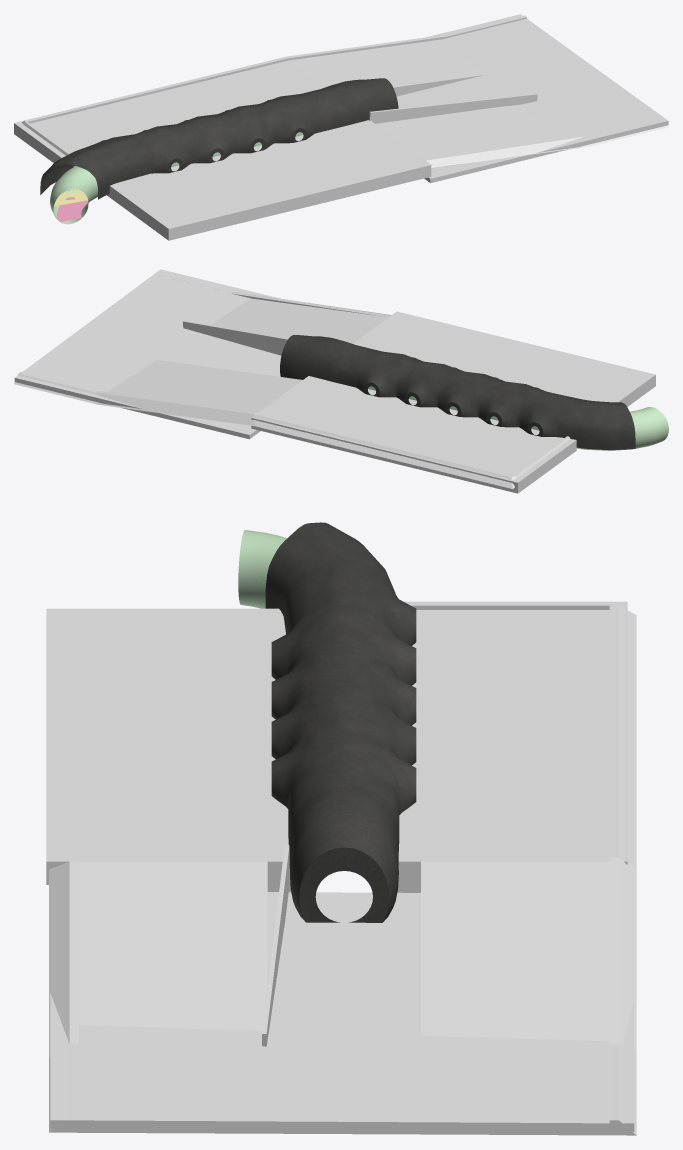
The model's file is Airlock_Bay.glb.
3 renders of one model, top to bottom at view 1: azimuth 30°, elevation 25°; view 2: azimuth 150°, elevation 25°; view 3: azimuth 270°, elevation 25°, orthographic. The views are drawn at different scales.
Parts seen in each view (by area): view 1: Bay_Grounds_LOD0, Bay_Grounds-colonly.001, AirlockBayOverlay_LOD0, Bay_Grounds-colonly.004, Bay_Grounds-colonly.005, Bay_Grounds-colonly.003, Bay_Grounds-colonly.006, Bay_Grounds-colonly.002, AirlockBayWalls_LOD0, AirlockBayLevels_LOD0; view 2: Bay_Grounds_LOD0, Bay_Grounds-colonly.001, AirlockBayOverlay_LOD0, Bay_Grounds-colonly.005, Bay_Grounds-colonly.004, Bay_Grounds-colonly.002, AirlockBayWalls_LOD0, Bay_Grounds-colonly.006, Bay_Grounds-colonly.003; view 3: Bay_Grounds_LOD0, Bay_Grounds-colonly.001, AirlockBayOverlay_LOD0, Bay_Grounds-colonly.004, Bay_Grounds-colonly.005, Bay_Grounds-colonly.002, Bay_Grounds-colonly.003, AirlockBayWalls_LOD0, Bay_Grounds-colonly.006.
Boxes of the visible parts, x1,y1,x2,y2 form: Bay_Grounds_LOD0: (22,15,668,222); Bay_Grounds-colonly.001: (396,14,668,183); AirlockBayOverlay_LOD0: (40,78,398,199); Bay_Grounds-colonly.004: (107,120,431,240); Bay_Grounds-colonly.005: (14,60,324,166); Bay_Grounds-colonly.003: (376,106,580,168); Bay_Grounds-colonly.006: (368,93,537,123); Bay_Grounds-colonly.002: (291,45,483,94); AirlockBayWalls_LOD0: (50,132,303,224); AirlockBayLevels_LOD0: (54,186,95,221); Bay_Grounds_LOD0: (14,273,643,488); Bay_Grounds-colonly.001: (14,269,281,439); AirlockBayOverlay_LOD0: (280,335,635,450); Bay_Grounds-colonly.005: (251,376,576,493); Bay_Grounds-colonly.004: (355,311,655,406); Bay_Grounds-colonly.002: (109,360,298,411); AirlockBayWalls_LOD0: (368,386,668,450); Bay_Grounds-colonly.006: (182,320,288,355); Bay_Grounds-colonly.003: (211,299,386,338); Bay_Grounds_LOD0: (49,603,636,1135); Bay_Grounds-colonly.001: (50,892,634,1131); AirlockBayOverlay_LOD0: (265,522,416,922); Bay_Grounds-colonly.004: (46,608,290,884); Bay_Grounds-colonly.005: (398,601,627,883); Bay_Grounds-colonly.002: (421,861,609,1040); Bay_Grounds-colonly.003: (79,861,267,1028); AirlockBayWalls_LOD0: (238,530,286,608); Bay_Grounds-colonly.006: (262,845,289,1046).
Size of what is drawn, in the model's own units: 273 by 26.47 by 125.
Materials: 6 (1 with a texture image).
